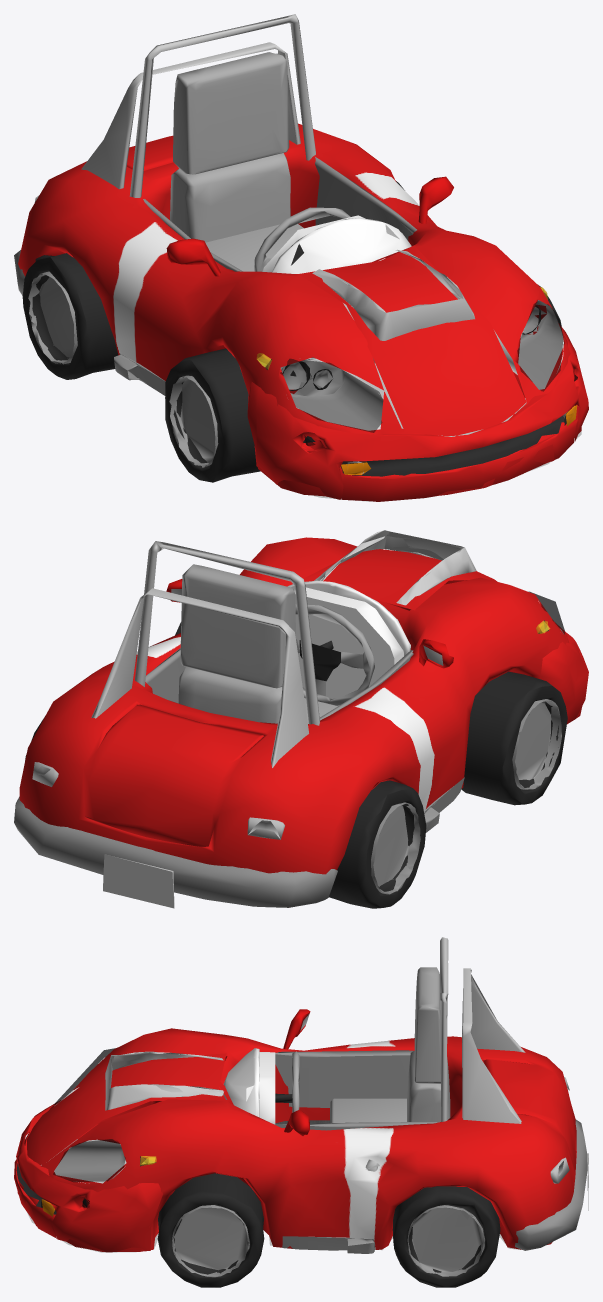
Rendered from model_statueCar.fbx.
3 views of the same model, one above another, from view 1: azimuth 30°, elevation 25°; view 2: azimuth 150°, elevation 25°; view 3: azimuth 270°, elevation 25° (orthographic). The views are drawn at different scales.
Visible parts, largest first — view 1: mesh_statueCar; view 2: mesh_statueCar; view 3: mesh_statueCar.
Boxes of the visible parts, bbox=[...] form: mesh_statueCar: bbox=[14, 14, 588, 501]; mesh_statueCar: bbox=[14, 530, 588, 908]; mesh_statueCar: bbox=[14, 937, 588, 1287].
Bounding box in the file's own units: 219 × 186 × 378.
